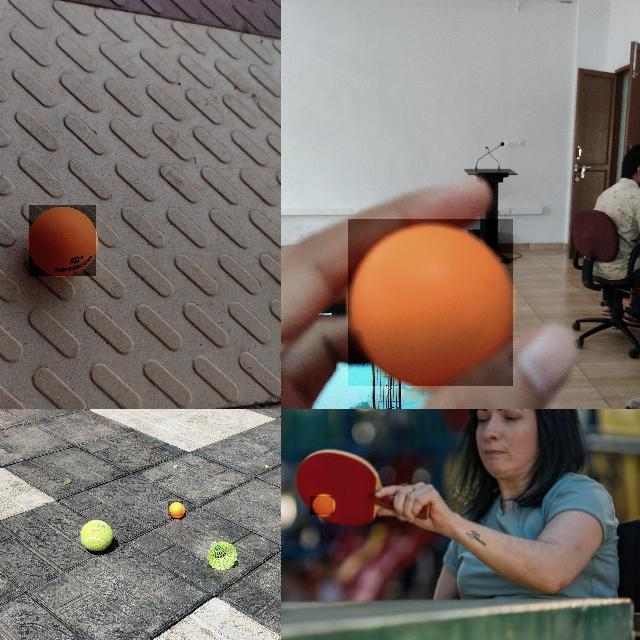ping-pong-ball: (348, 218, 514, 388), (28, 205, 98, 277), (310, 496, 334, 516), (168, 501, 184, 517)
